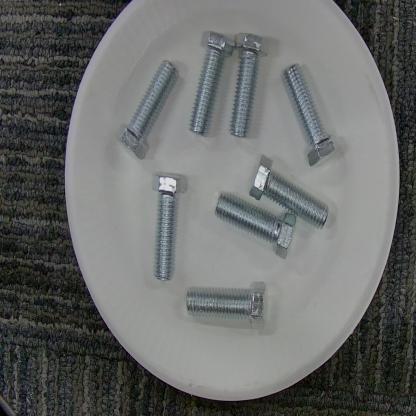FOD: (112, 28, 346, 154), (206, 156, 339, 263), (185, 274, 283, 335), (146, 164, 188, 288)
